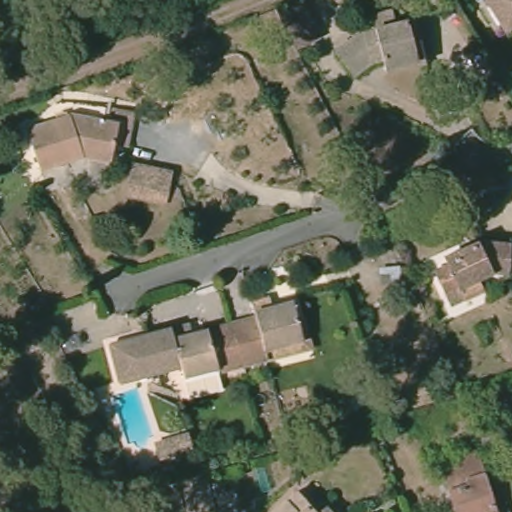pool: (108, 386, 164, 451)
